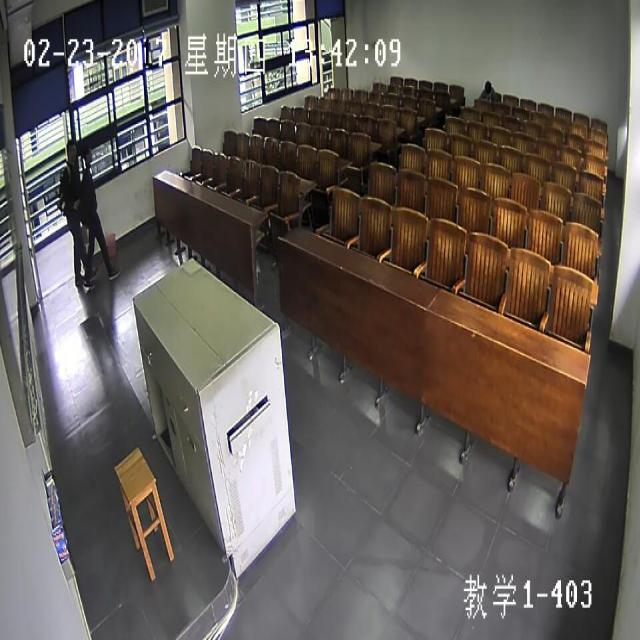person: (65, 138, 76, 162), (80, 140, 92, 162), (484, 76, 492, 93)
